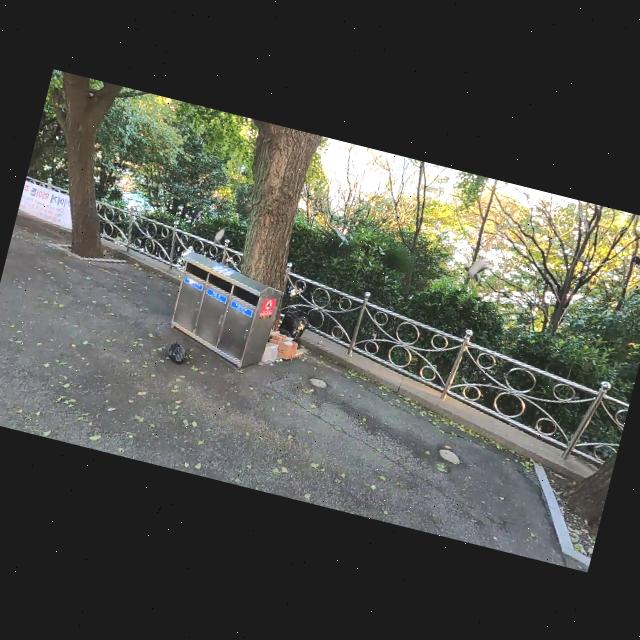trash: (276, 306, 310, 342), (159, 336, 192, 370), (265, 334, 299, 361), (258, 337, 280, 364), (270, 331, 288, 344)
